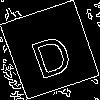D: (25, 25, 76, 81)
